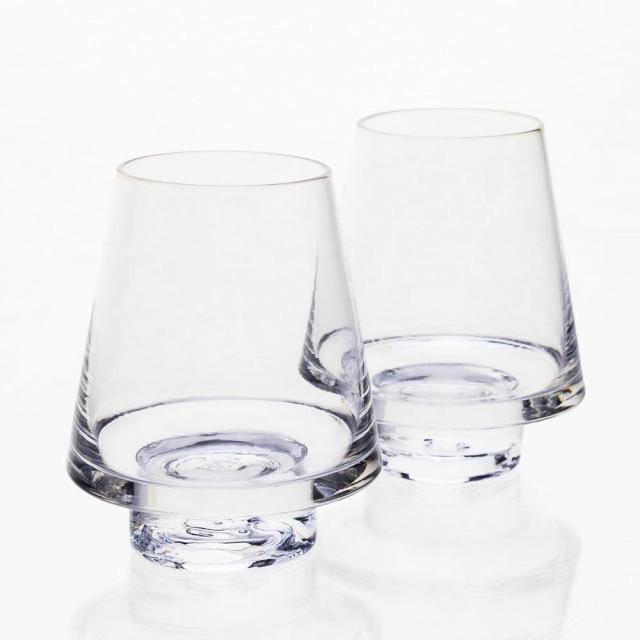glass: (66, 136, 384, 567)
